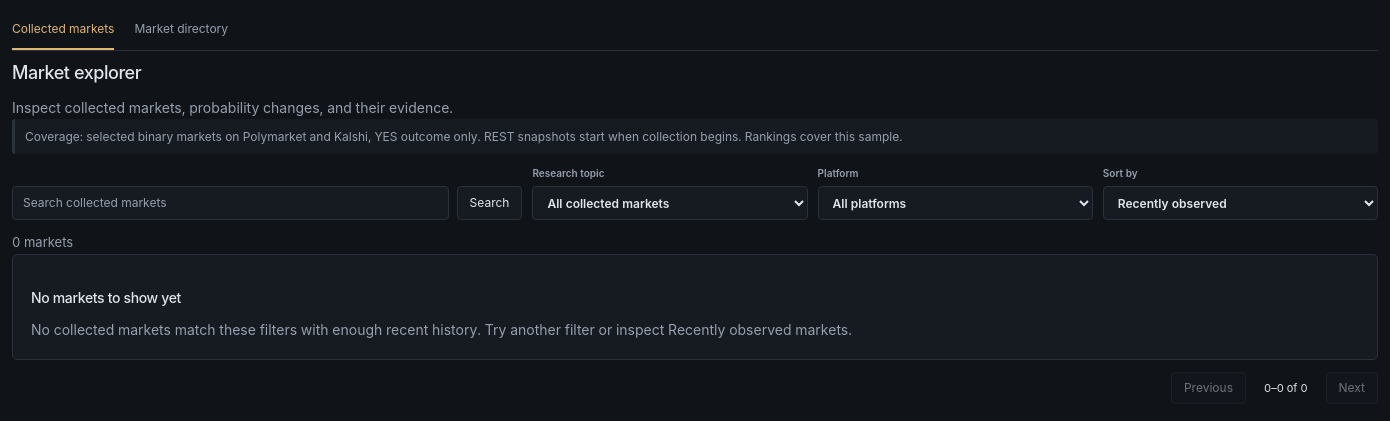
Test: scopes platform filtering and movement ranking to backend query parameters
The image size is (1390, 421).
Expected: the heading "No markets to show yet" is shown, [31,289,181,306]
Select "Kalshi" in the dropdown labelled "Platform" at (955, 203), box [818,186,1093,220]
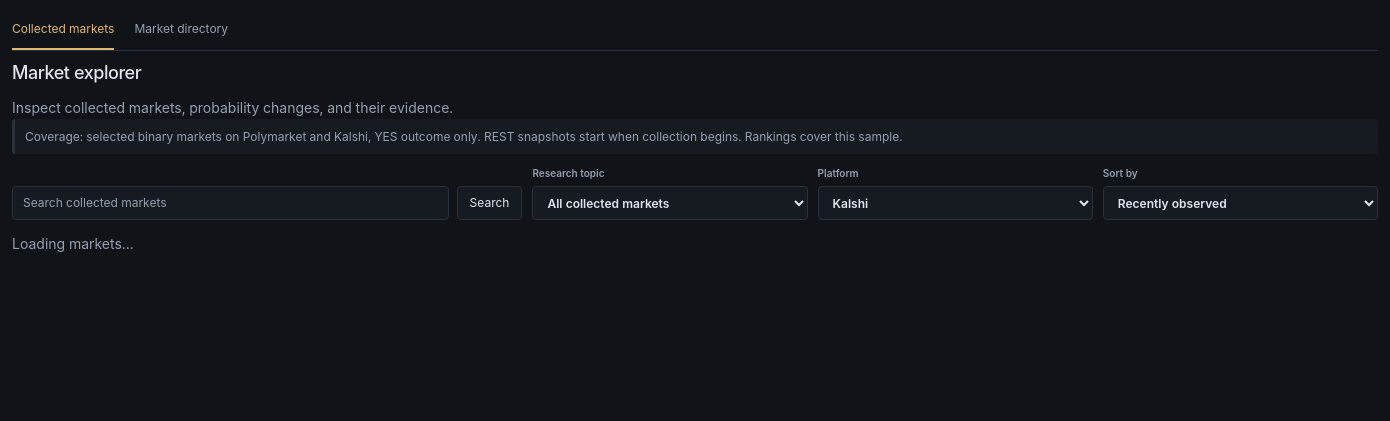
Select "Largest 15m movement" in the dropdown labelled "Sort by" at (1240, 203), box [1103,186,1378,220]
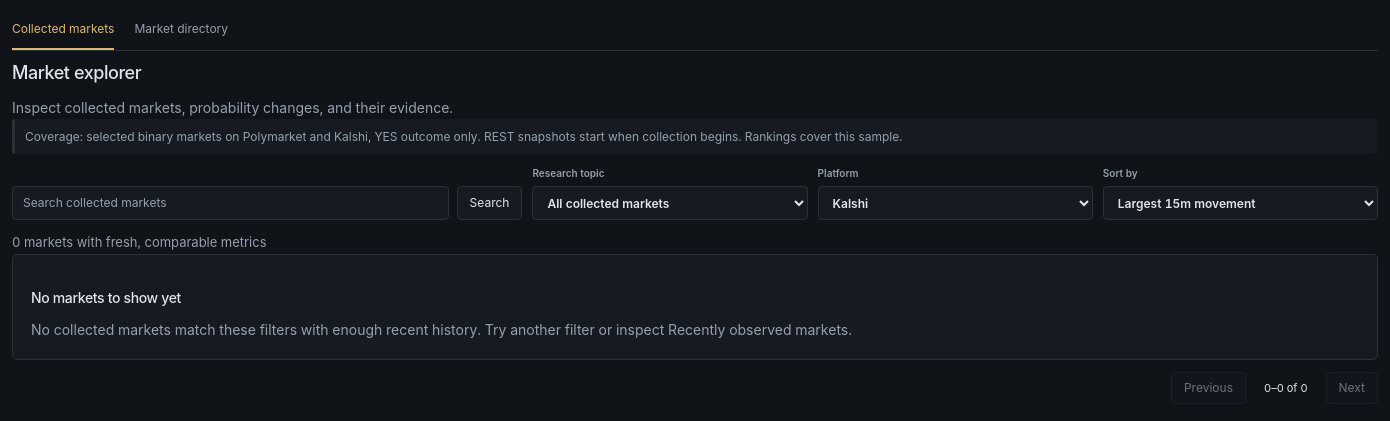
Result: the text "0 markets with fresh, comparable metrics" is shown at [12,234,266,250]
